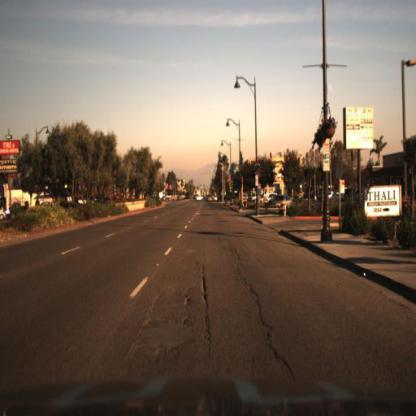biker: (264, 190, 271, 216)
car: (272, 192, 294, 214)
